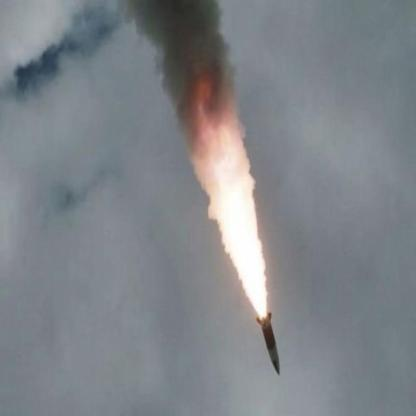MIL_TBM: (257, 304, 285, 386)
